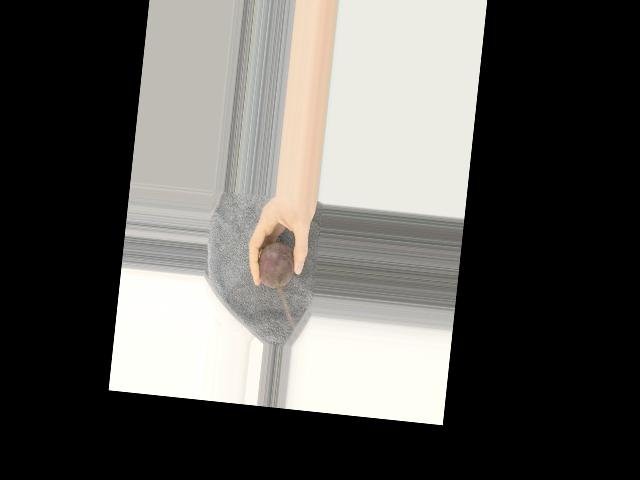beet: (256, 240, 296, 289)
